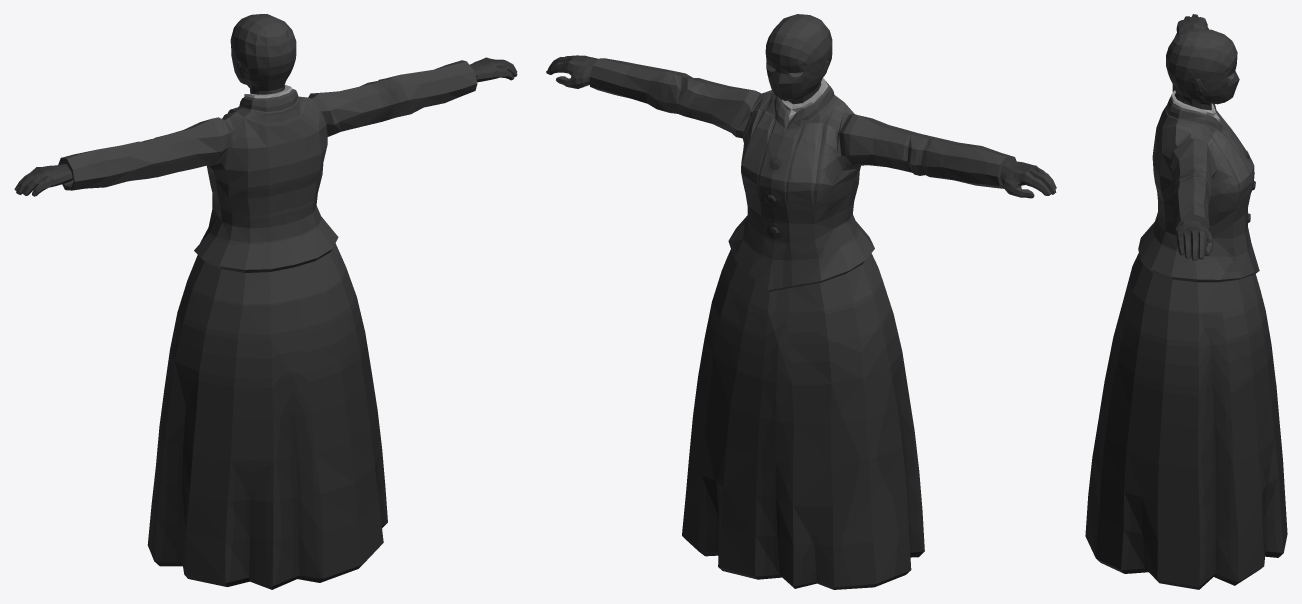
The model's file is NPC_AP31VictorianDressBrown.glb.
The picture shows the model from 3 angles, left to right: view 1: azimuth 30°, elevation 25°; view 2: azimuth 150°, elevation 25°; view 3: azimuth 270°, elevation 25°; orthographic projection. The views are drawn at different scales.
Visible parts, largest first — view 1: NPC_AP31VictorianDressBrown; view 2: NPC_AP31VictorianDressBrown; view 3: NPC_AP31VictorianDressBrown.
Boxes of the visible parts, box(x1,y1,x2,y2) form: NPC_AP31VictorianDressBrown: box(14, 14, 517, 589); NPC_AP31VictorianDressBrown: box(546, 14, 1056, 589); NPC_AP31VictorianDressBrown: box(1085, 14, 1287, 589).
Bounding box in the file's own units: 13.75 × 13.77 × 4.94.
Materials: 1 (1 with a texture image).
